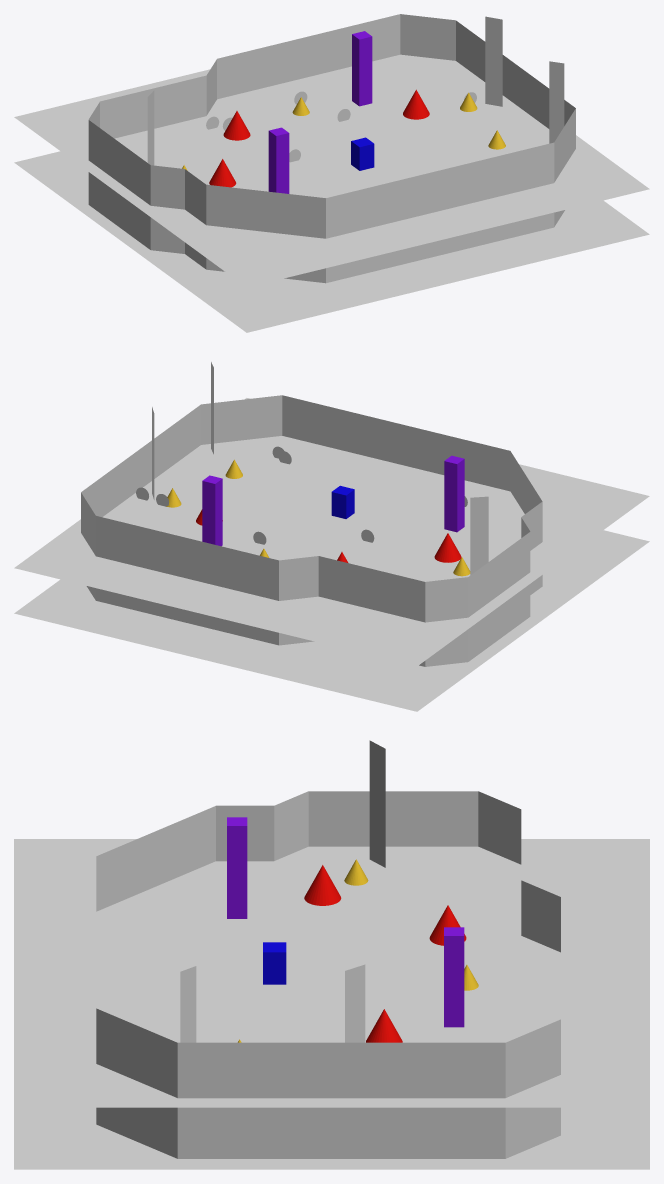
The model's file is N2-Bosque.fbx.
The picture shows the model from 3 angles, top to bottom: view 1: azimuth 30°, elevation 25°; view 2: azimuth 150°, elevation 25°; view 3: azimuth 270°, elevation 25°; orthographic projection. The views are drawn at different scales.
Visible parts, largest first — view 1: Base.002, Limite 0-2, Arbol.003, Arbol Roto, Arbol Roto.001, Arbol.005, Jugador.001, Arbol.004, Enemigo Basico.001, Enemigo Grande; view 2: Base.002, Limite 0-2, Arbol Roto.001, Arbol Roto, Arbol.004, Jugador.001; view 3: Base.002, Limite 0-2, Arbol Roto.001, Arbol Roto, Arbol.004, Arbol.003, Arbol.005, Jugador.001, Enemigo Basico, Enemigo Basico.001.
Part boxes in pixels (x1=…): Base.002: x1=14, y1=54, x2=649, y2=332; Limite 0-2: x1=88, y1=14, x2=575, y2=238; Arbol.003: x1=485, y1=16, x2=502, y2=106; Arbol Roto: x1=352, y1=31, x2=372, y2=106; Arbol Roto.001: x1=268, y1=127, x2=289, y2=193; Arbol.005: x1=549, y1=61, x2=564, y2=143; Jugador.001: x1=351, y1=137, x2=374, y2=170; Arbol.004: x1=147, y1=90, x2=154, y2=165; Enemigo Basico.001: x1=403, y1=89, x2=429, y2=119; Enemigo Grande: x1=223, y1=111, x2=250, y2=140; Base.002: x1=14, y1=398, x2=649, y2=711; Limite 0-2: x1=81, y1=395, x2=542, y2=622; Arbol Roto.001: x1=444, y1=455, x2=464, y2=532; Arbol Roto: x1=202, y1=475, x2=222, y2=546; Arbol.004: x1=470, y1=496, x2=488, y2=575; Jugador.001: x1=331, y1=485, x2=354, y2=518; Base.002: x1=14, y1=839, x2=649, y2=1169; Limite 0-2: x1=96, y1=791, x2=560, y2=1098; Arbol Roto.001: x1=227, y1=817, x2=247, y2=918; Arbol Roto: x1=444, y1=927, x2=464, y2=1027; Arbol.004: x1=369, y1=740, x2=385, y2=867; Arbol.003: x1=345, y1=964, x2=365, y2=1042; Arbol.005: x1=180, y1=966, x2=196, y2=1042; Jugador.001: x1=263, y1=942, x2=286, y2=984; Enemigo Basico: x1=304, y1=865, x2=341, y2=905; Enemigo Basico.001: x1=366, y1=1009, x2=402, y2=1042.
Size of the model in its own units: 1860 by 585 by 1860.
